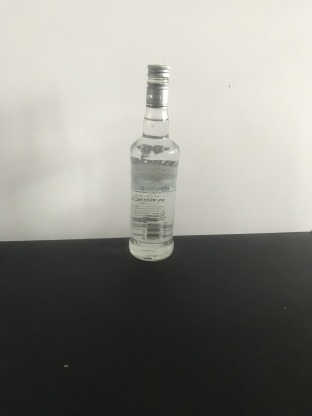nakretka: (144, 62, 171, 108)
